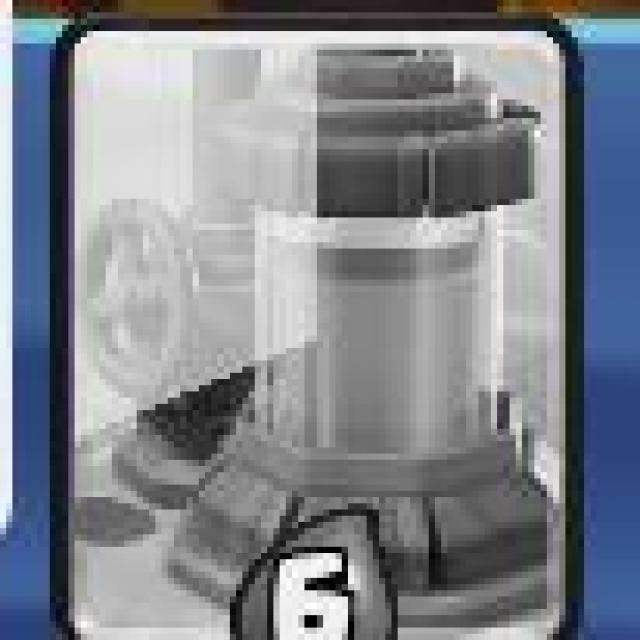Elixir_Pump: (55, 22, 580, 640)
